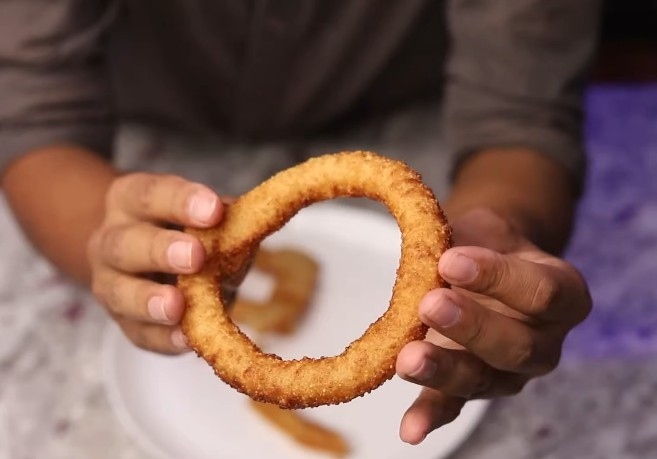sel_roti: (178, 149, 450, 404)
